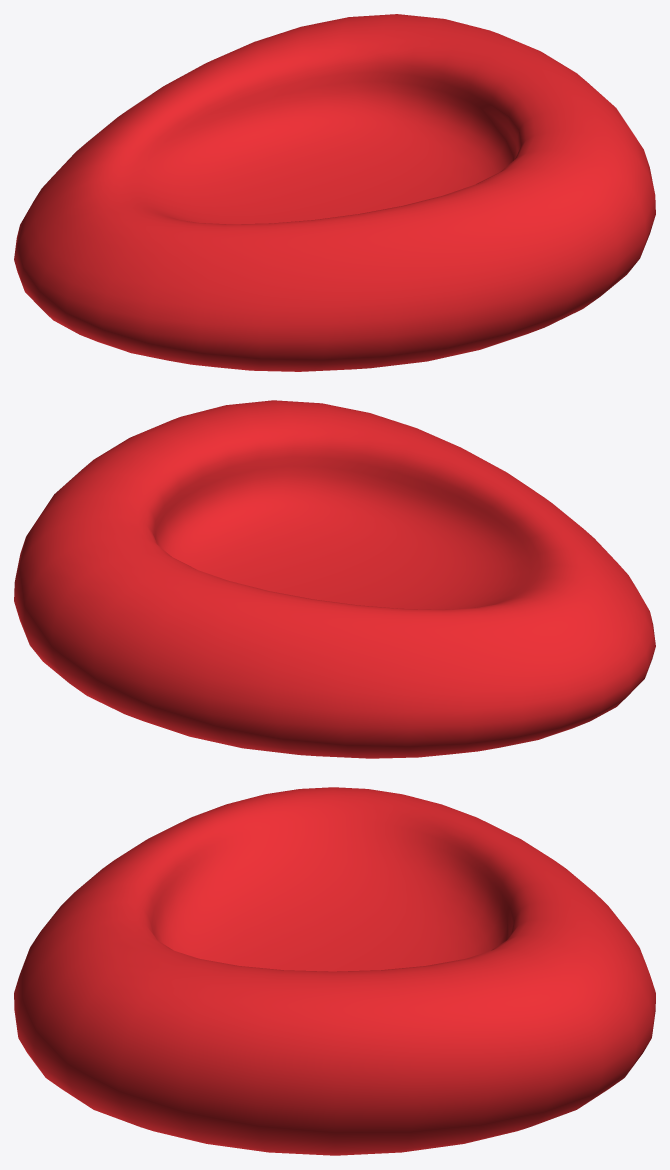
File: eritrocitos.fbx
3 renders of one model, top to bottom at view 1: azimuth 30°, elevation 25°; view 2: azimuth 150°, elevation 25°; view 3: azimuth 270°, elevation 25°, orthographic. The views are drawn at different scales.
Parts seen in each view (by area): view 1: Cube; view 2: Cube; view 3: Cube.
Boxes of the visible parts, x1,y1,x2,y2 form: Cube: (14, 14, 655, 371); Cube: (14, 400, 655, 758); Cube: (14, 787, 655, 1155).
Size of the model in its own units: 1.96 by 0.6117 by 1.75.
